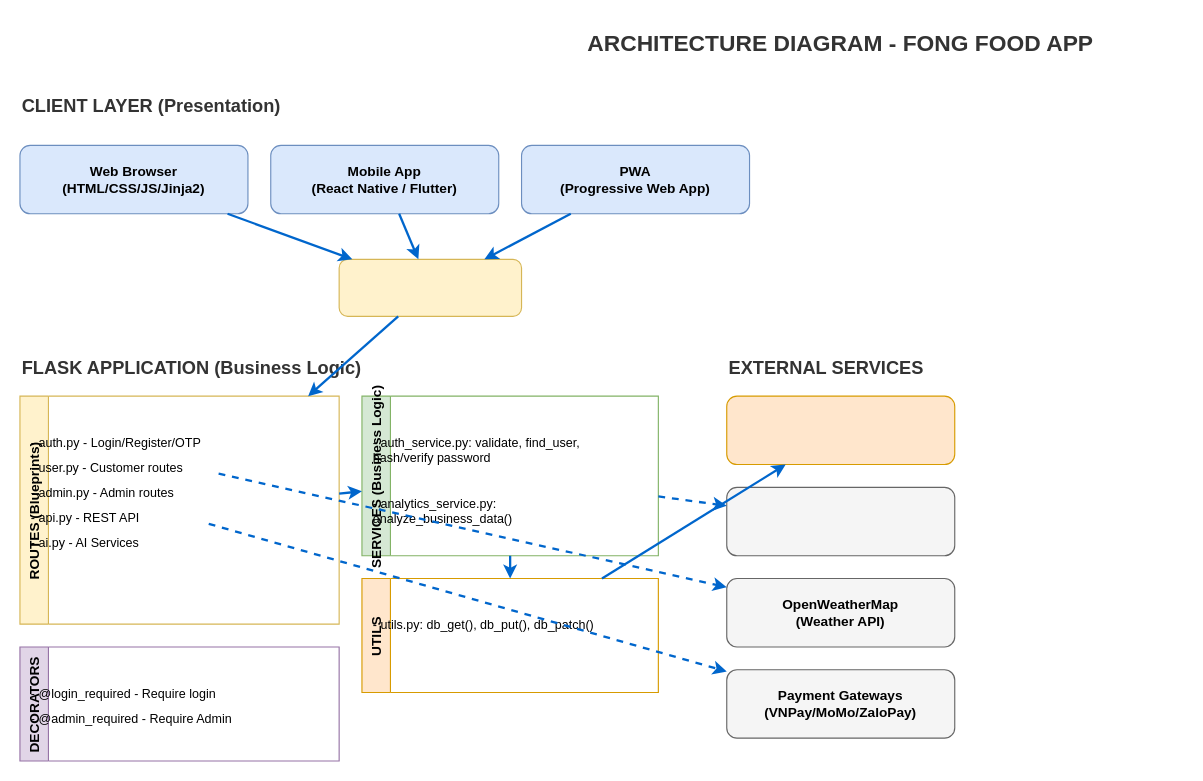
This 1203x781 diagram has some shape labels left out. The centre of each missing label's shape, as x and y in pixels:
"API GATEWAY" goes at point 430,287.
"Firebase Realtime DB (NoSQL Database)" goes at point 840,430.
"Google Gemini API (AI Recommendations)" goes at point 840,521.
